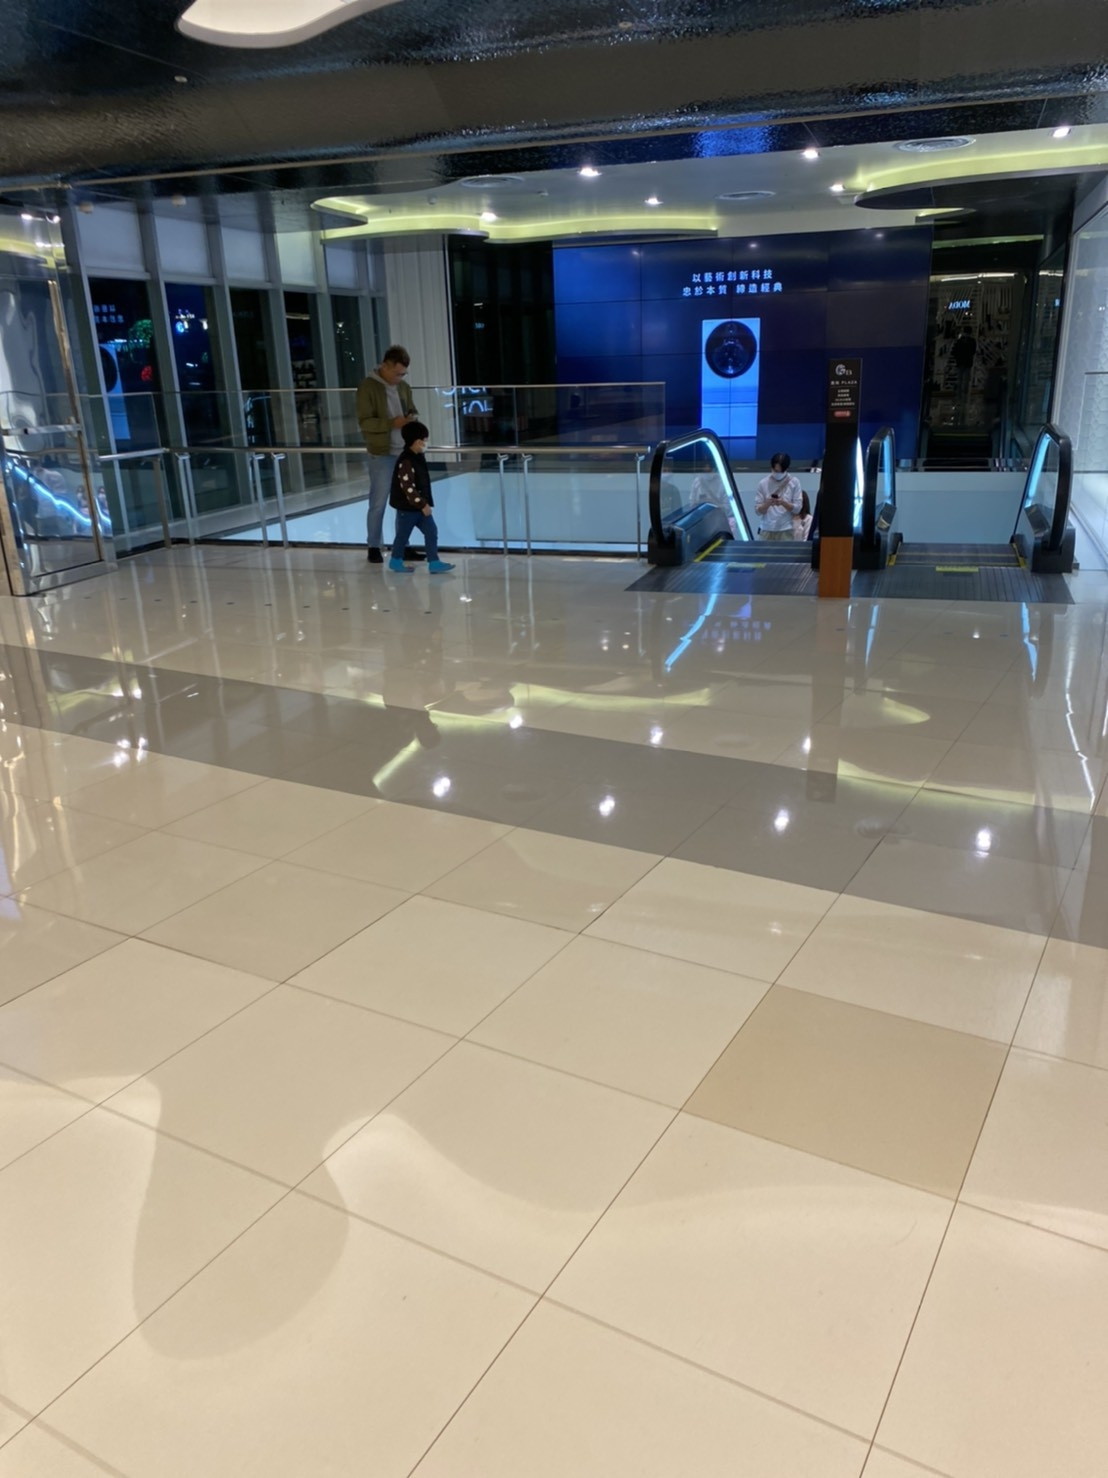people: (355, 345, 407, 566), (390, 421, 440, 581), (755, 452, 800, 547)
